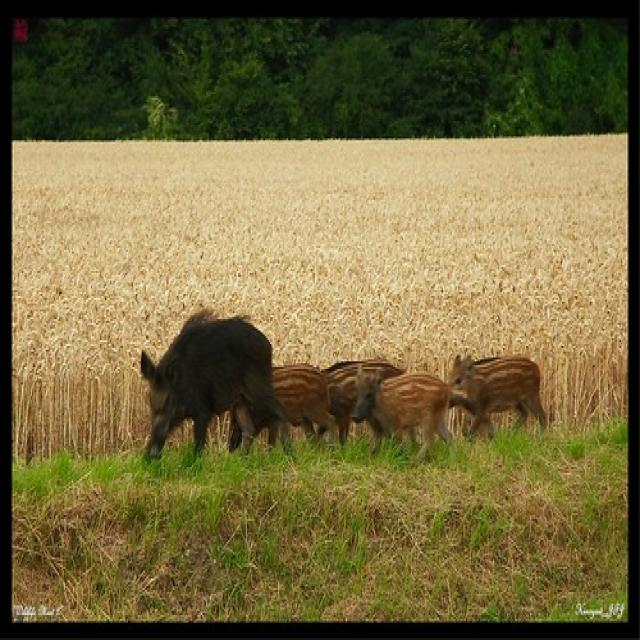boar: (117, 286, 287, 506), (341, 355, 467, 481), (431, 338, 554, 456), (286, 351, 424, 447), (224, 357, 346, 456)
